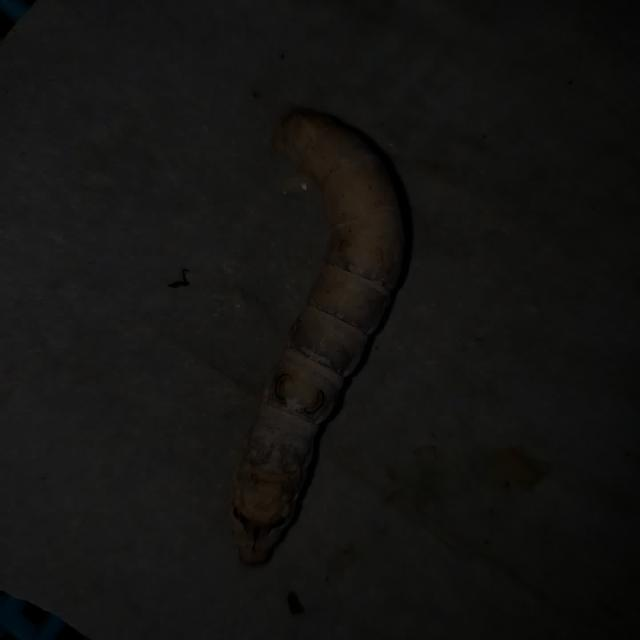Grasserie: (212, 86, 409, 572)
